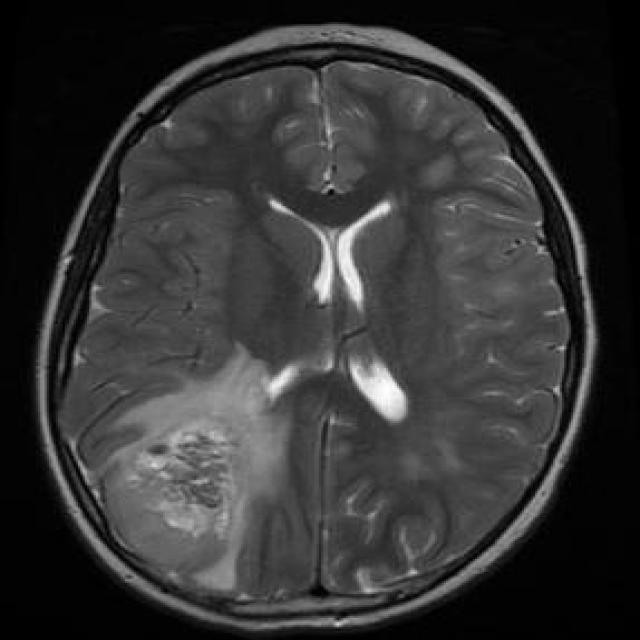brain tumor: (100, 338, 314, 598)
